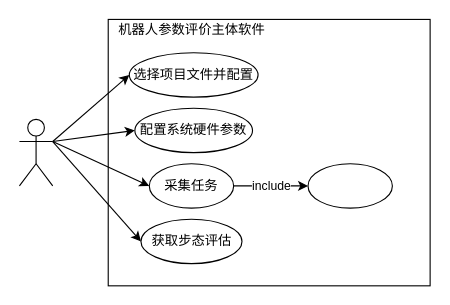
This 450x305 diagram has some shape labels left out. The centre of each missing label's shape, as x and y in pixels:
用户: [35,152]
设备控制: [349,185]
